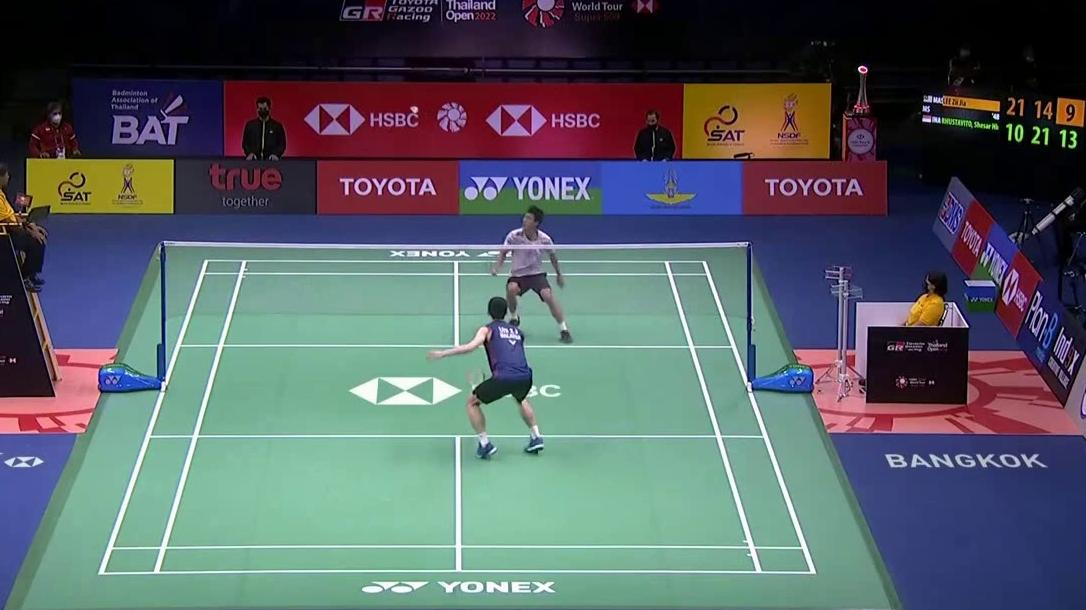racket: (465, 366, 493, 387), (483, 255, 498, 279)
shuttle: (410, 104, 419, 115)
